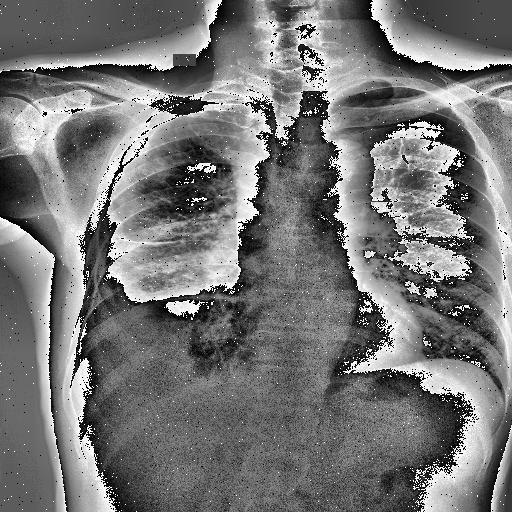0- Aortic enlargement: (309, 138, 374, 206), (300, 138, 376, 190)
1- Atelectasis: (120, 88, 220, 161)
10- Pleural effusion: (64, 267, 252, 414), (64, 258, 212, 399), (75, 284, 142, 384)
11- Pleural thickening: (64, 267, 252, 414), (118, 86, 267, 168), (120, 88, 220, 161)
13- Pulmonary fibrosis: (136, 290, 252, 306), (111, 232, 186, 246), (116, 236, 184, 251), (398, 152, 410, 165)
5- ILD: (112, 124, 244, 300), (383, 275, 509, 388)
6- Infiltration: (95, 144, 244, 374), (112, 124, 244, 300), (383, 275, 509, 388), (363, 232, 464, 358), (422, 137, 478, 208), (428, 161, 476, 213)
7- Lung Opacity: (106, 113, 272, 361), (174, 87, 258, 157)
